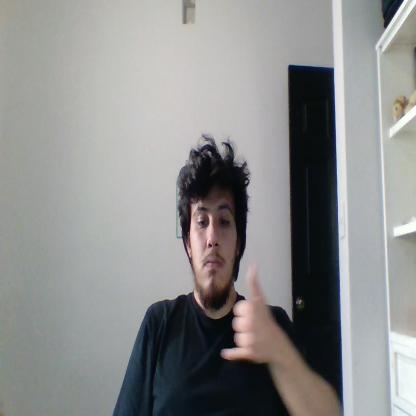Y: (221, 260, 269, 362)
